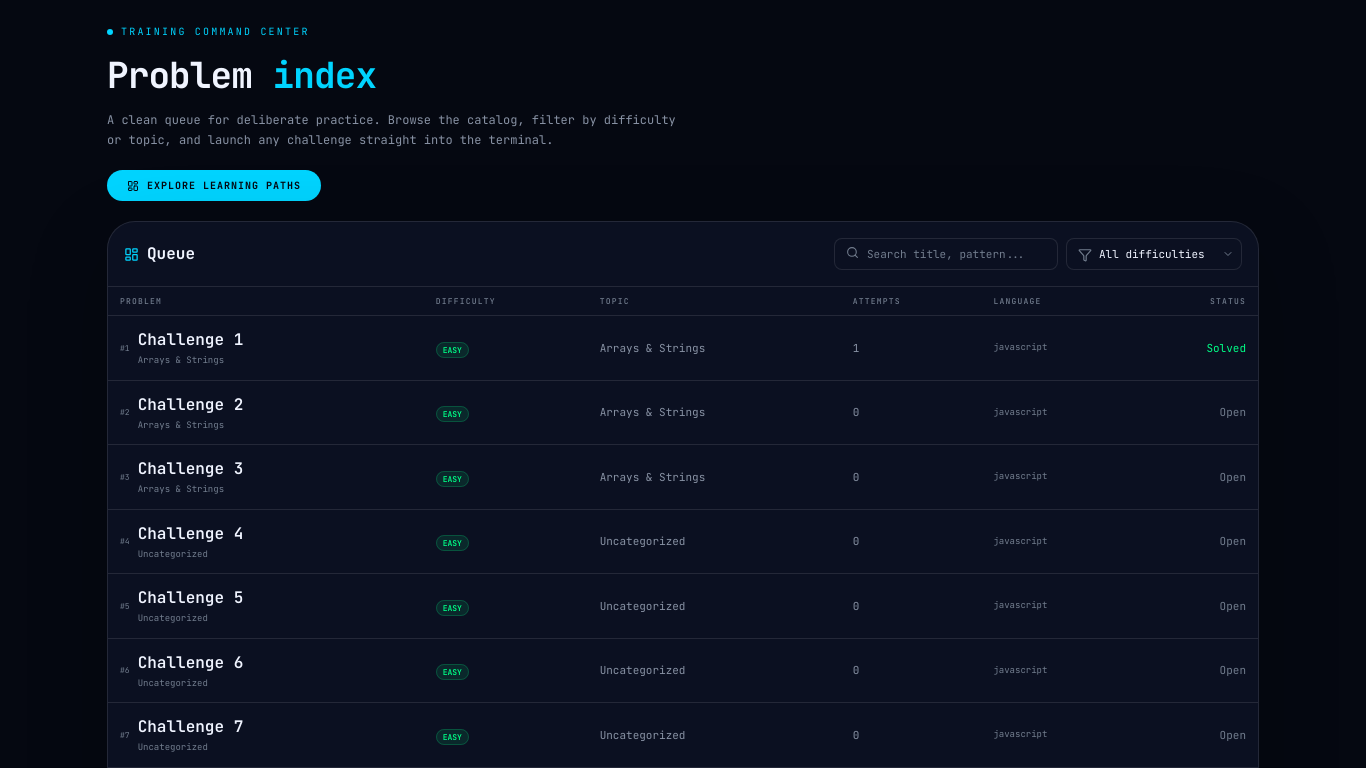
Test: Problems page (redesigned) › filters problems by difficulty
This screenshot has width=1366, height=768.
Expected: the text "Challenge 1" is shown, x1=138 y1=329 x2=243 y2=350
Select "Easy" in the dropdown named "Filter by difficulty" at x=1154, y=254, box x1=1066 y1=238 x2=1242 y2=270
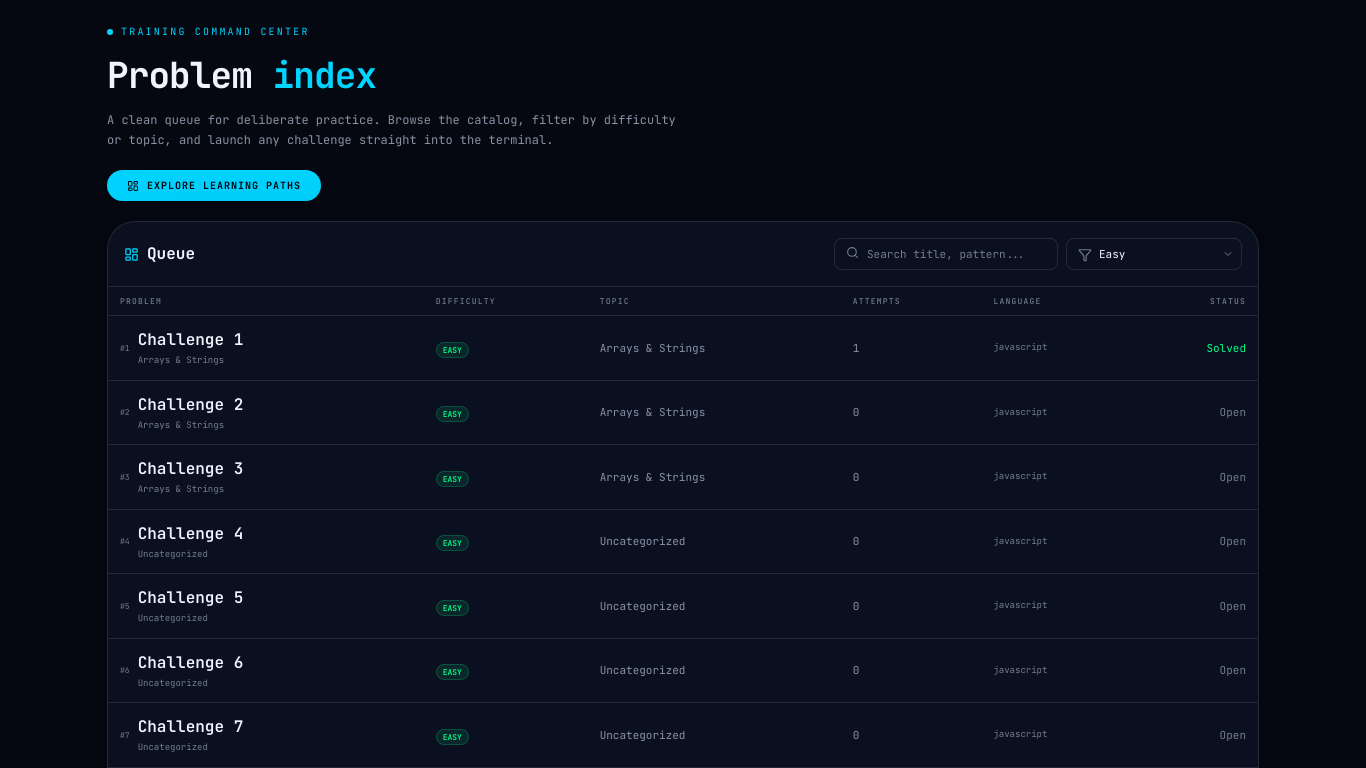
Expected: the text "Challenge 1" is shown, x1=138 y1=329 x2=243 y2=350
Expected: the text "Challenge 16" is not shown
Select "Hard" in the dropdown named "Filter by difficulty" at x=1154, y=254, box x1=1066 y1=238 x2=1242 y2=270
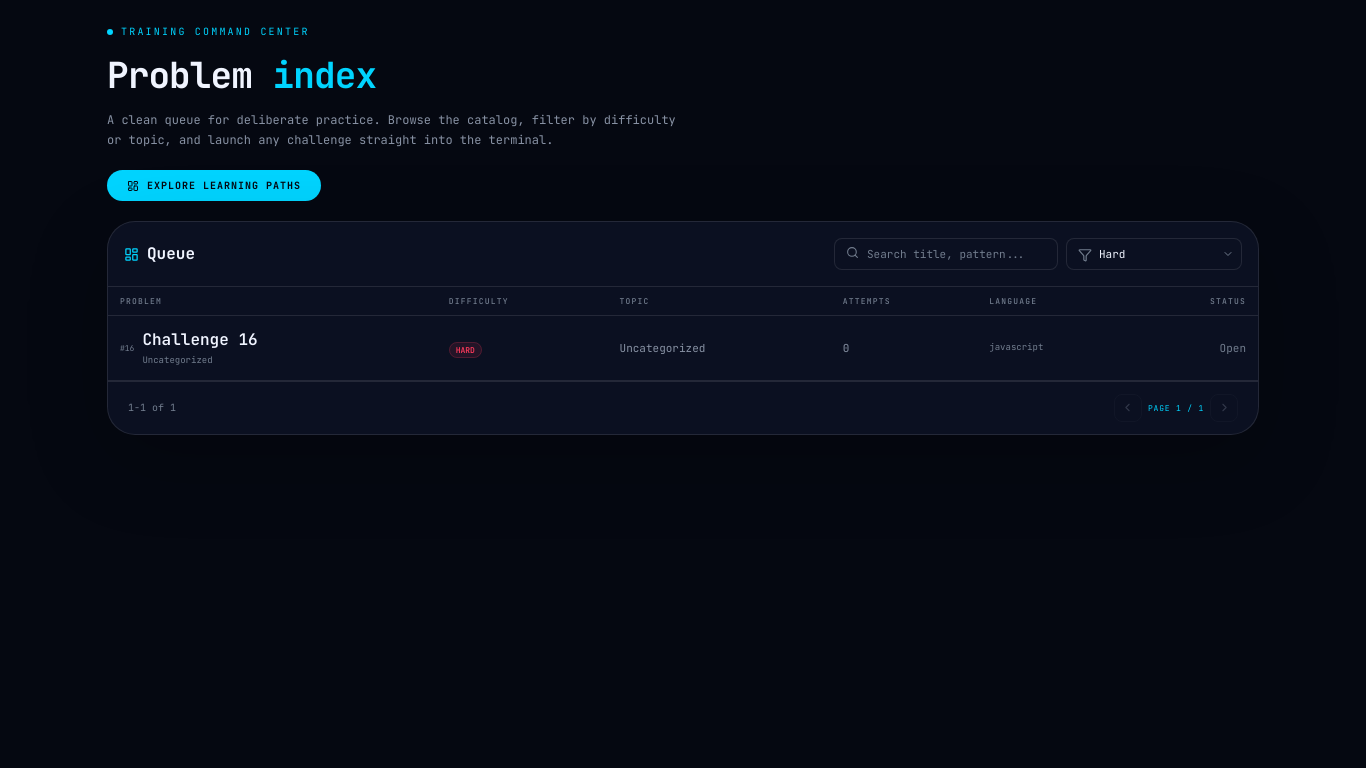
Expected: the text "Challenge 16" is shown, x1=142 y1=329 x2=258 y2=350
